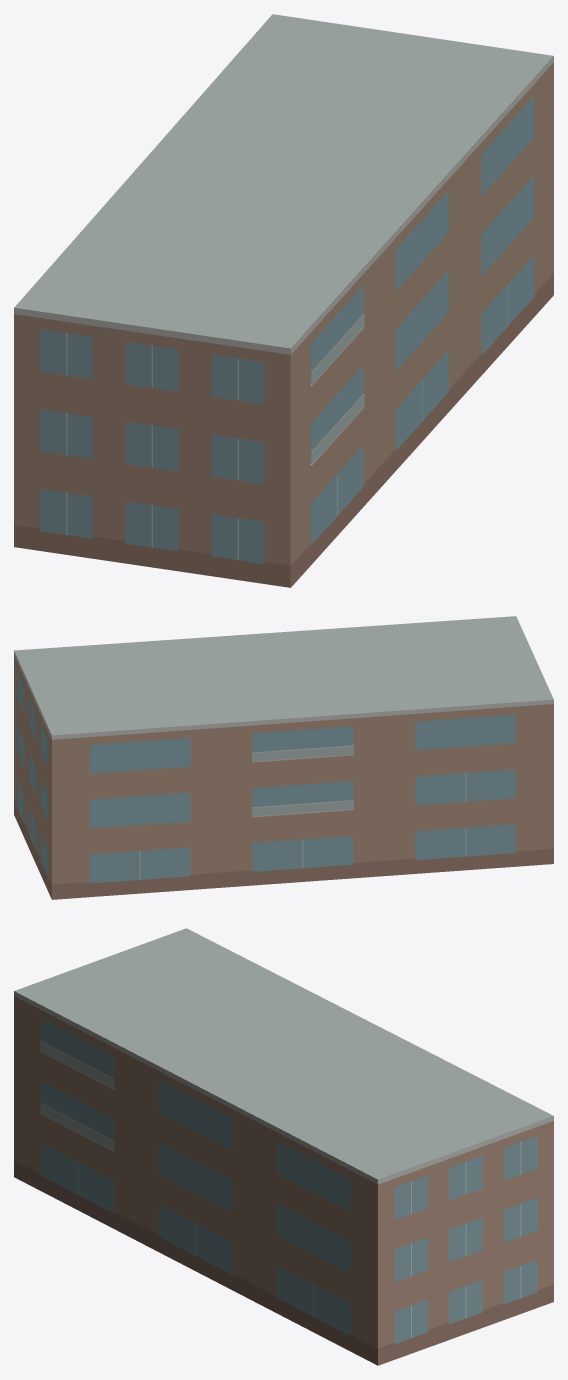
File: survey-upis-32866314.glb
The picture shows the model from 3 angles, top to bottom: view 1: azimuth 30°, elevation 25°; view 2: azimuth 150°, elevation 25°; view 3: azimuth 270°, elevation 25°; orthographic projection. The views are drawn at different scales.
Visible parts, largest first — view 1: survey-upis-32866314.tmp; view 2: survey-upis-32866314.tmp; view 3: survey-upis-32866314.tmp.
Part boxes in pixels (x1,y1,x2,y2): survey-upis-32866314.tmp: (14, 14, 553, 587); survey-upis-32866314.tmp: (14, 616, 553, 899); survey-upis-32866314.tmp: (14, 928, 553, 1365).
Bounding box in the file's own units: 26.53 × 9.15 × 24.07.
